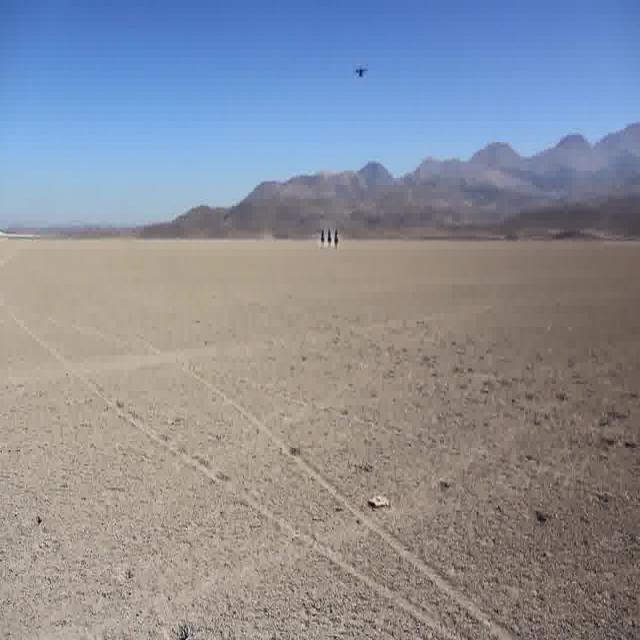drones: (347, 60, 372, 88)
